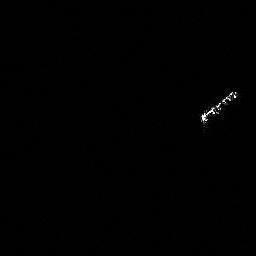ship: (197, 83, 243, 132)
